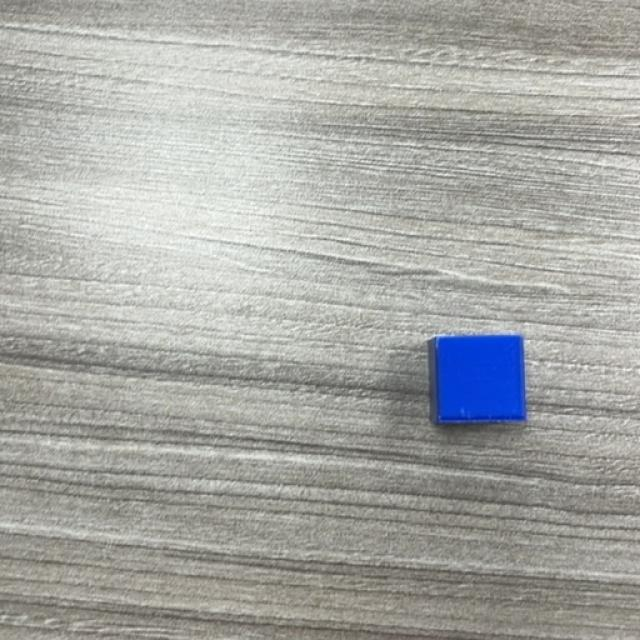Azul: (426, 335, 529, 428)
